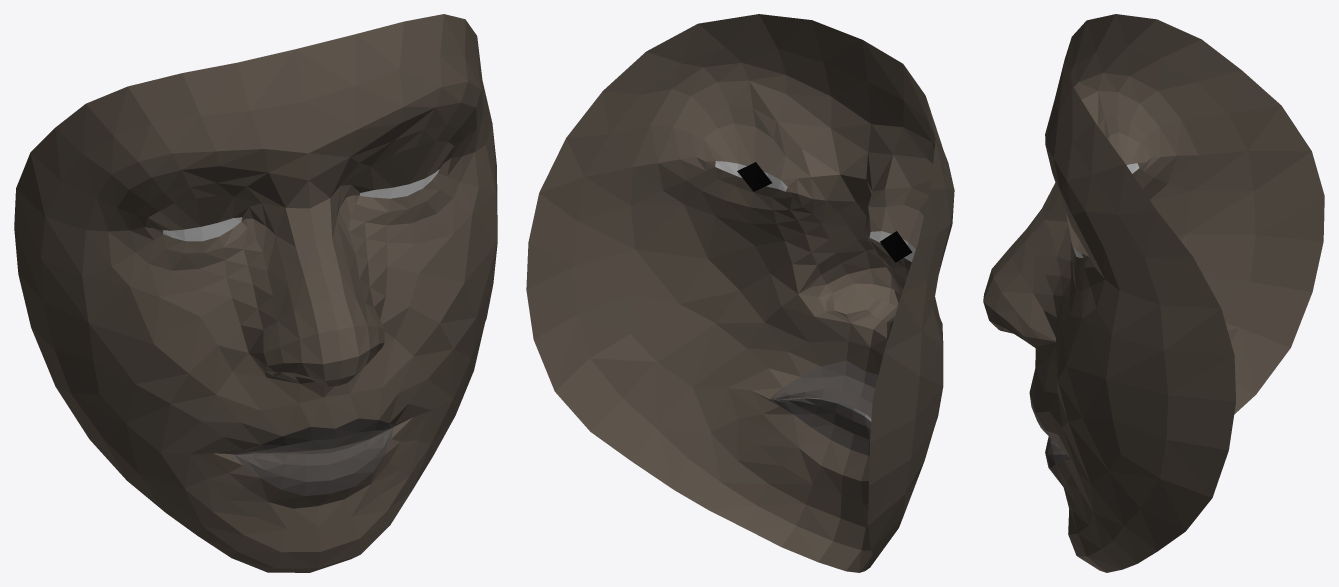
File: IMG_3792.obj
3 views of the same model, side by side, from view 1: azimuth 30°, elevation 25°; view 2: azimuth 150°, elevation 25°; view 3: azimuth 270°, elevation 25° (orthographic). The views are drawn at different scales.
Visible parts, largest first — view 1: face_model_with_iris; view 2: face_model_with_iris; view 3: face_model_with_iris.
Boxes of the visible parts, bbox=[...] form: face_model_with_iris: bbox=[14, 14, 497, 572]; face_model_with_iris: bbox=[526, 14, 954, 572]; face_model_with_iris: bbox=[983, 14, 1324, 572].
Size of the model in its own units: 0.8122 by 1.01 by 0.6106.
